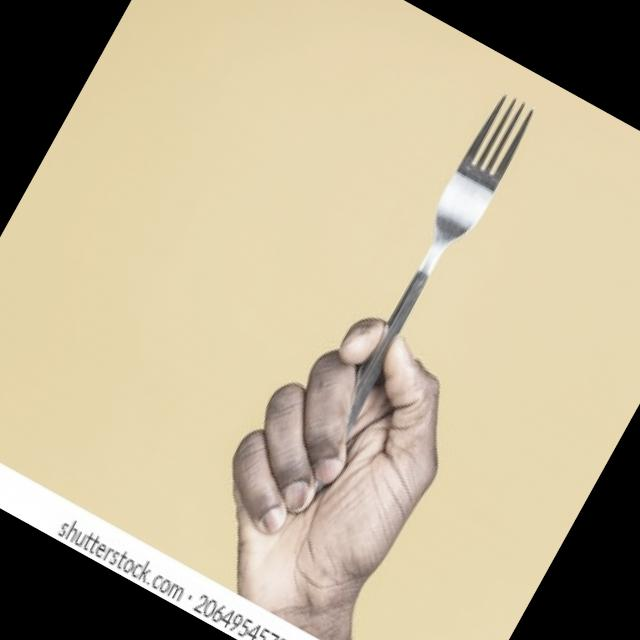fork: (276, 88, 540, 514)
